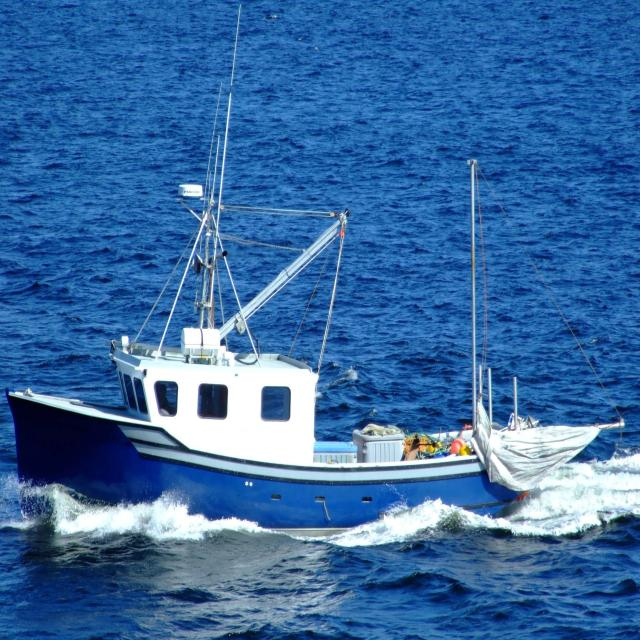Fishing Boat: (3, 134, 634, 592)
